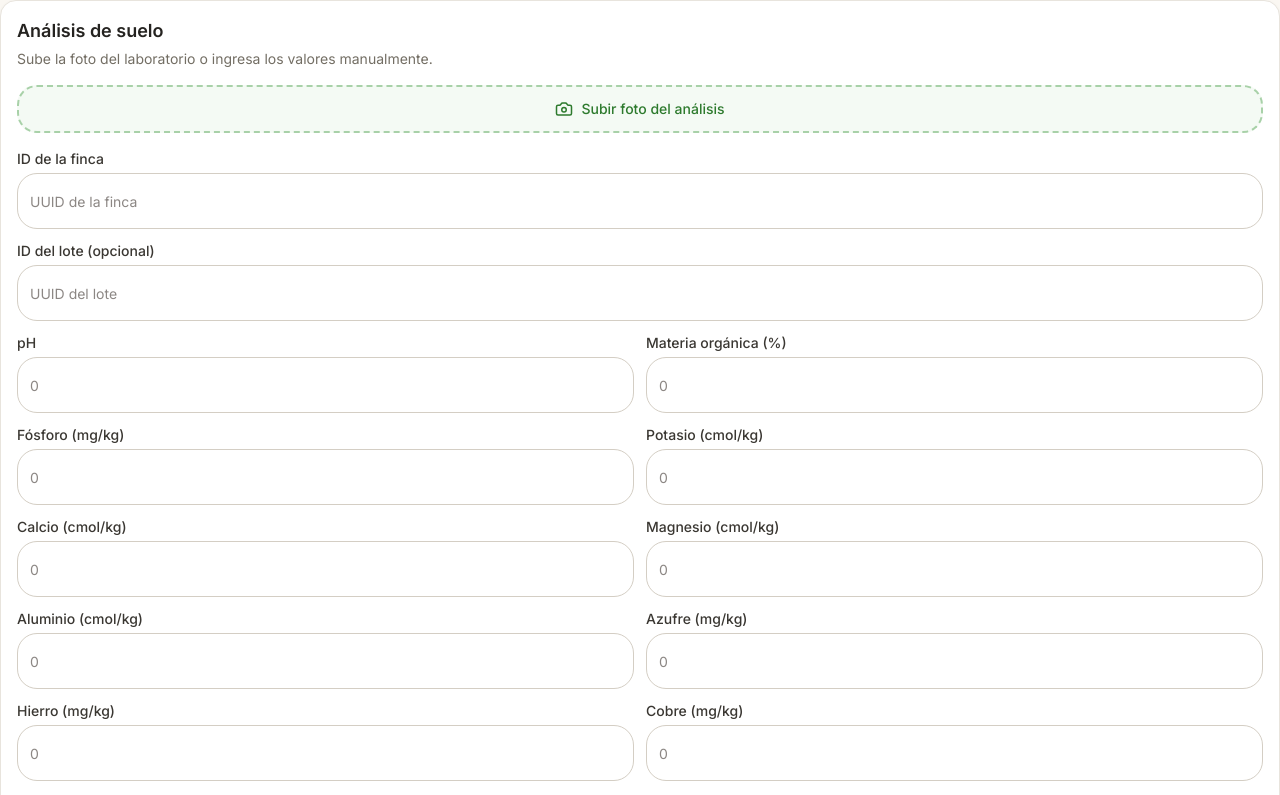
Test: SoilAnalysisForm › muestra error del servidor en alerta accesible
In the field with placeholder "UUID de la finca": (640, 201) [17, 173, 1263, 229], type "bbbbbbbb-0000-4000-8000-000000000001"
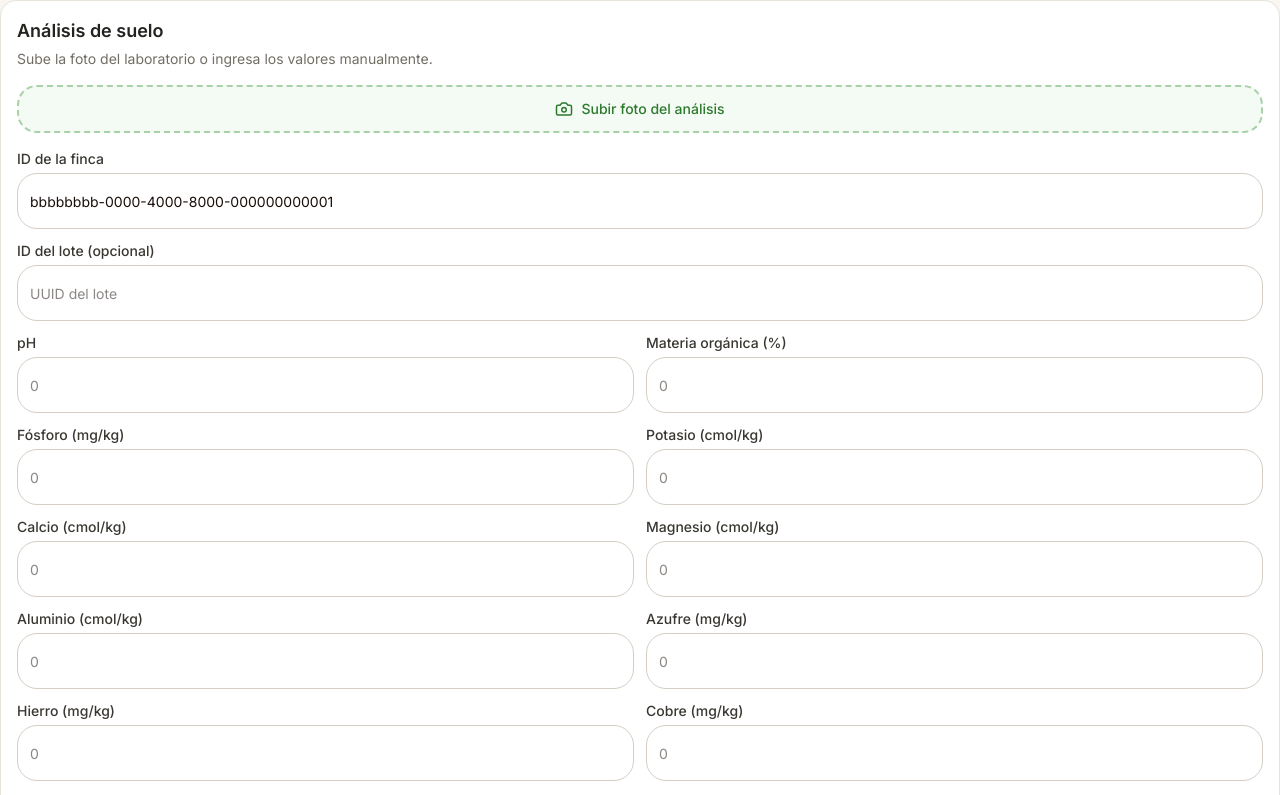
In the field labelled "pH": (326, 385) [17, 357, 634, 413], type "5.1"
(page scrolled)
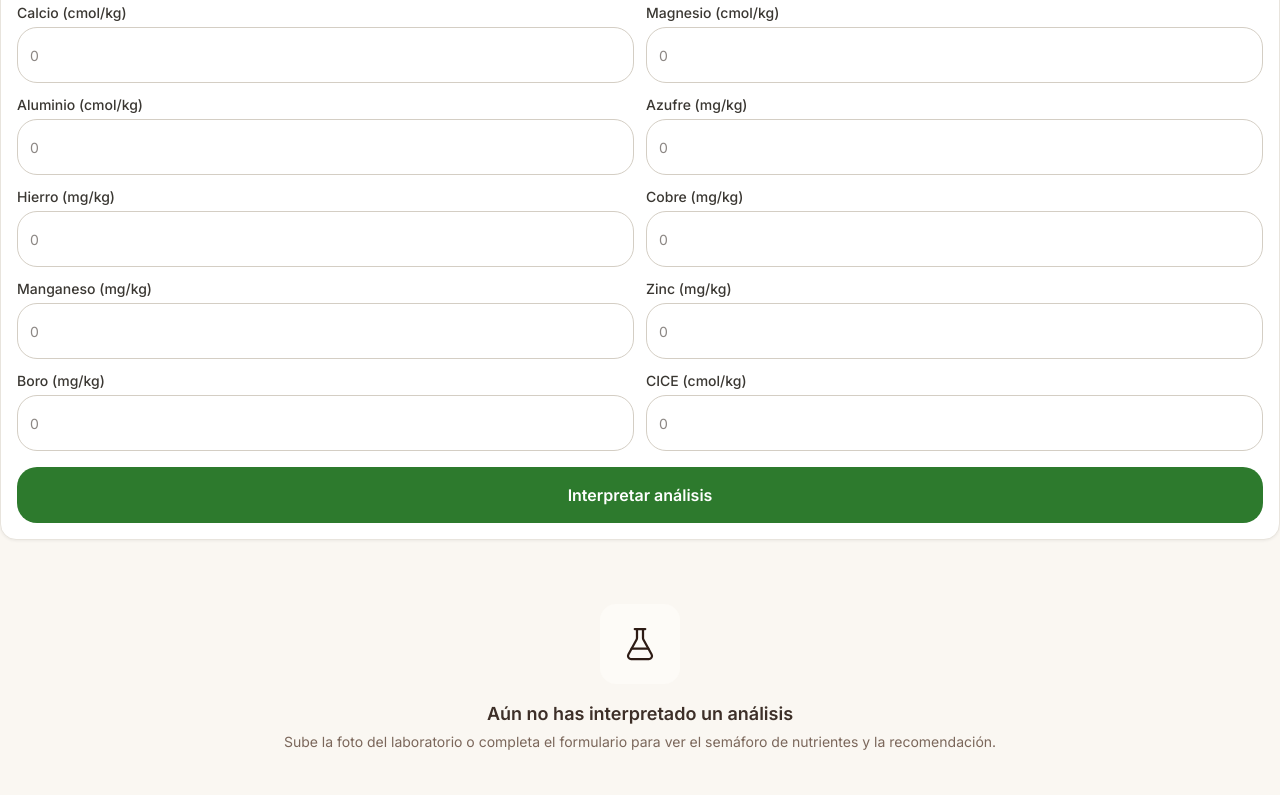
Click the button "Interpretar análisis": (640, 495) [17, 467, 1263, 523]
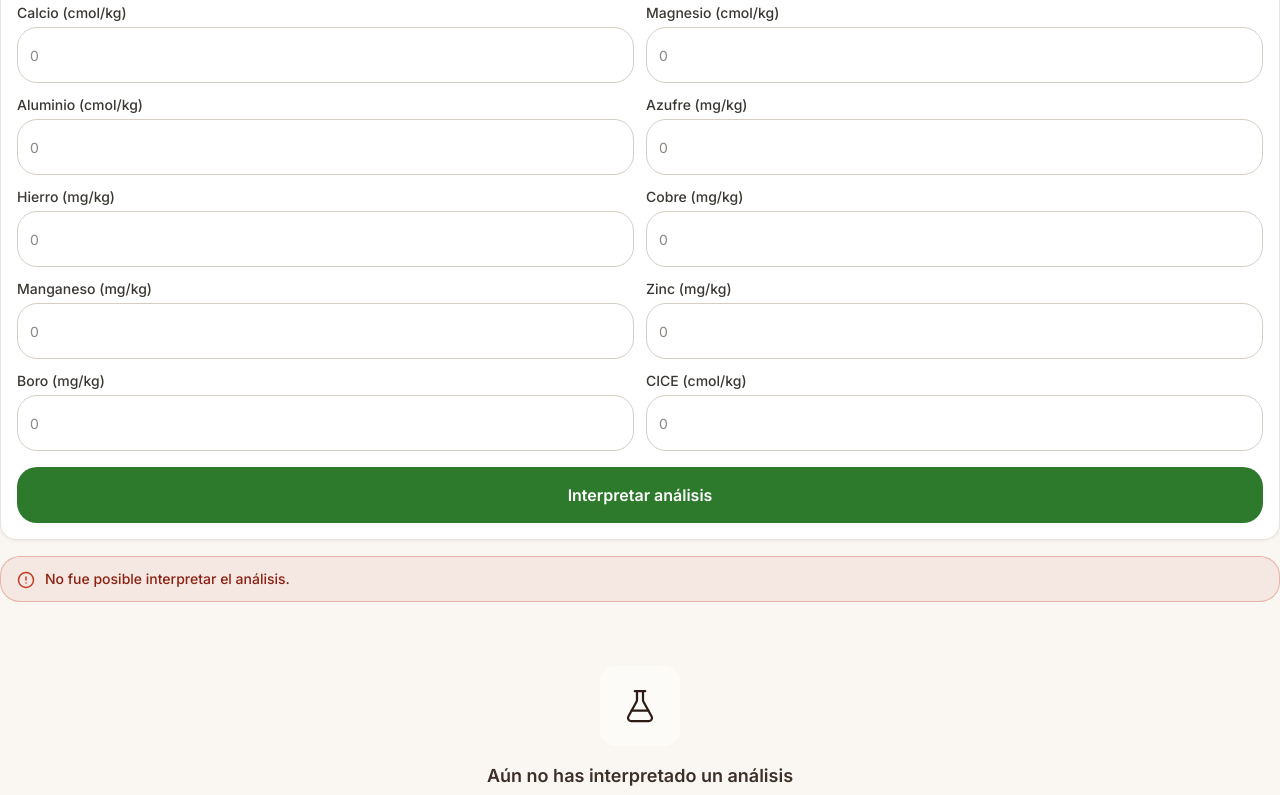
Check: the message shows "No fue posible", box [45, 570, 290, 587]
